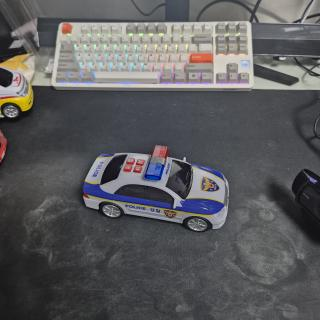Police_car: (83, 145, 229, 232)
